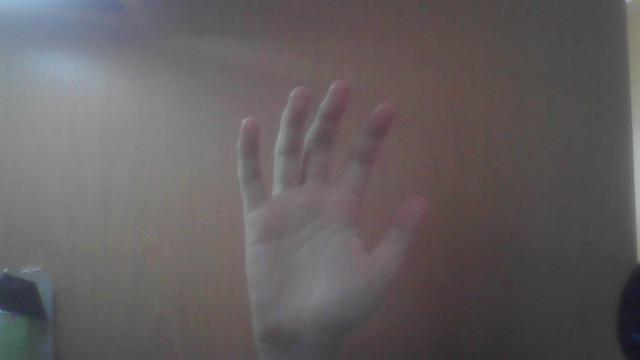Stop: (237, 78, 436, 346)
